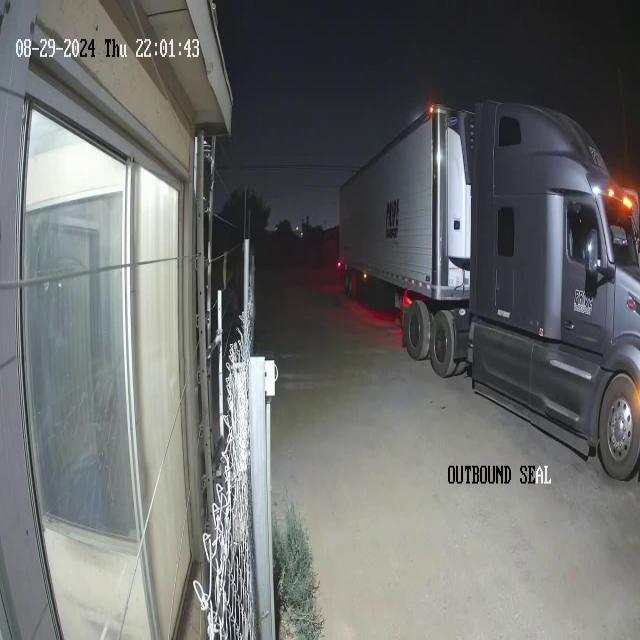TRUCK_IN: (337, 98, 639, 482)
